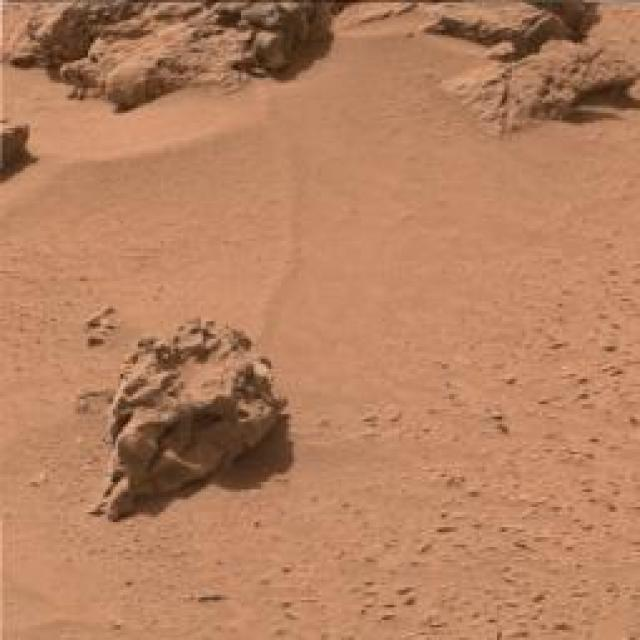rock: (95, 316, 289, 526), (0, 0, 336, 113), (443, 43, 640, 128), (368, 0, 639, 53), (0, 96, 31, 175)
